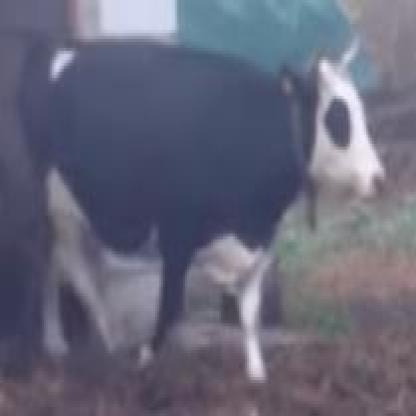cow: (17, 36, 387, 395)
